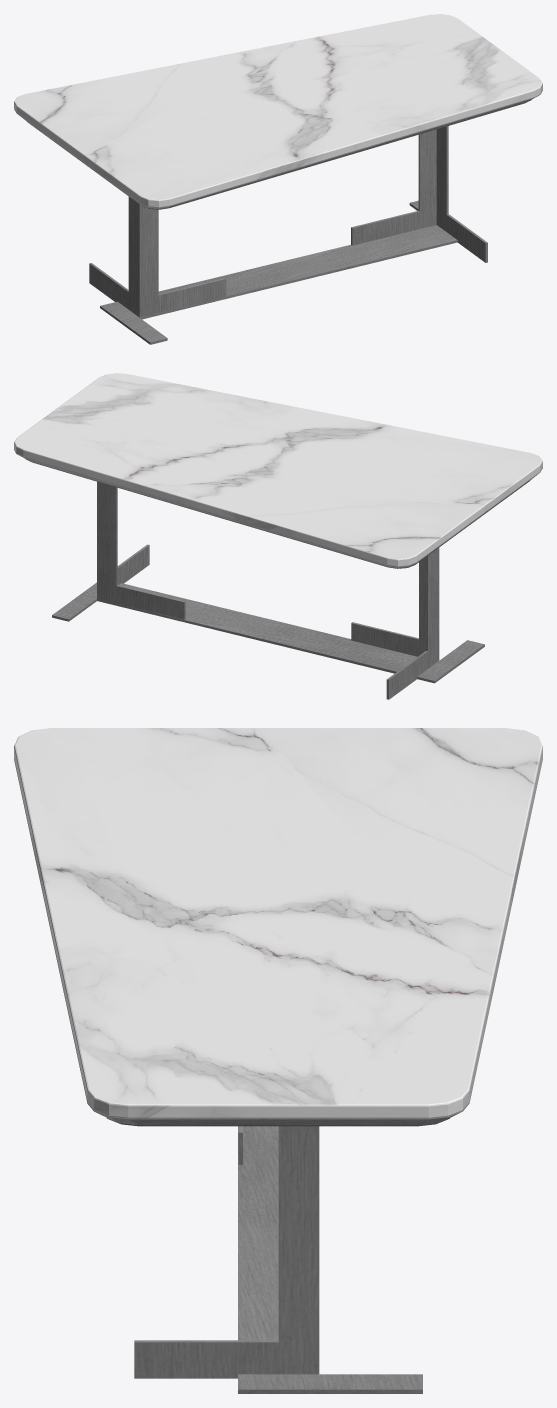
The model's file is SBH_Surefooted_B.glb.
3 views of the same model, one above another, from view 1: azimuth 30°, elevation 25°; view 2: azimuth 150°, elevation 25°; view 3: azimuth 270°, elevation 25° (orthographic). The views are drawn at different scales.
Visible parts, largest first — view 1: Surefooted_B; view 2: Surefooted_B; view 3: Surefooted_B.
Boxes of the visible parts, <box> form: Surefooted_B: <box>14,14,542,344</box>; Surefooted_B: <box>14,373,542,699</box>; Surefooted_B: <box>14,728,542,1393</box>.
Size of the model in its own units: 1.17 by 0.4592 by 0.6906.
2 materials, 2 textured.
